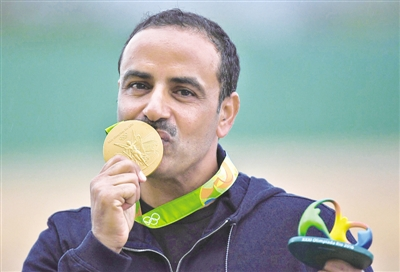face: (116, 33, 209, 176)
